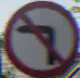Don't turn left: (8, 14, 74, 66)
